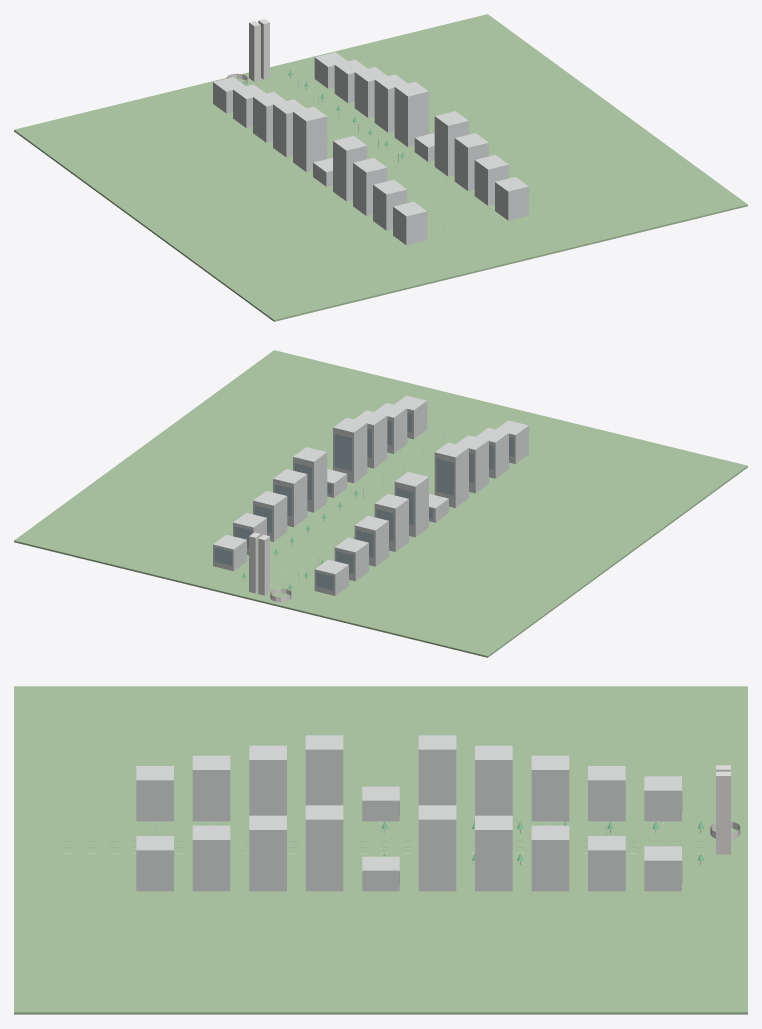
The model's file is brasilia-eixo-monumental.glb.
3 views of the same model, one above another, from view 1: azimuth 30°, elevation 25°; view 2: azimuth 150°, elevation 25°; view 3: azimuth 270°, elevation 25° (orthographic). The views are drawn at different scales.
Visible parts, largest first — view 1: lawn, office (×18), congress_left_tower, congress_right_tower; view 2: lawn, office (×18), office_windows (×2), congress_left_tower, congress_right_tower; view 3: lawn, office (×20), congress_right_tower.
Part boxes in pixels (bbox=[...]): lawn: bbox=[14, 14, 747, 321]; office (×18): bbox=[213, 52, 528, 245]; congress_left_tower: bbox=[249, 21, 260, 81]; congress_right_tower: bbox=[258, 18, 269, 79]; lawn: bbox=[14, 350, 747, 657]; office (×18): bbox=[213, 395, 528, 595]; office_windows (×2): bbox=[334, 434, 453, 495]; congress_left_tower: bbox=[258, 534, 269, 595]; congress_right_tower: bbox=[249, 532, 260, 593]; lawn: bbox=[14, 686, 747, 1014]; office (×20): bbox=[136, 735, 681, 891]; congress_right_tower: bbox=[716, 771, 730, 854].
Size of what is drawn, in the model's own units: 410 by 47.5 by 390.
